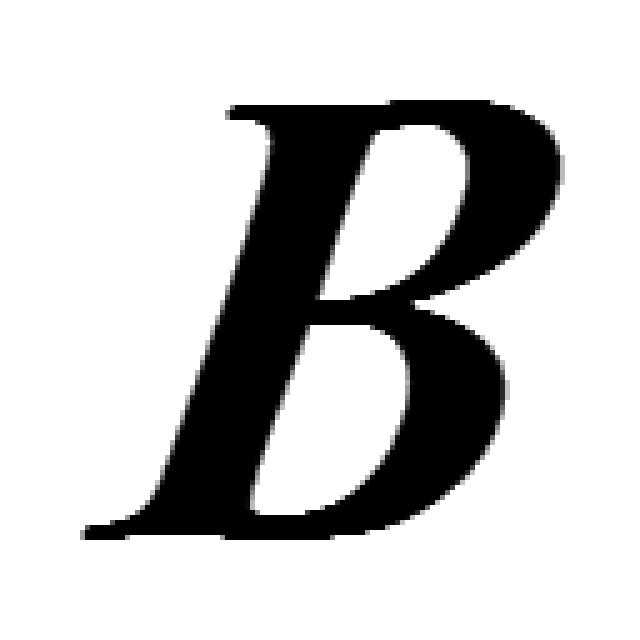B: (80, 100, 565, 540)
